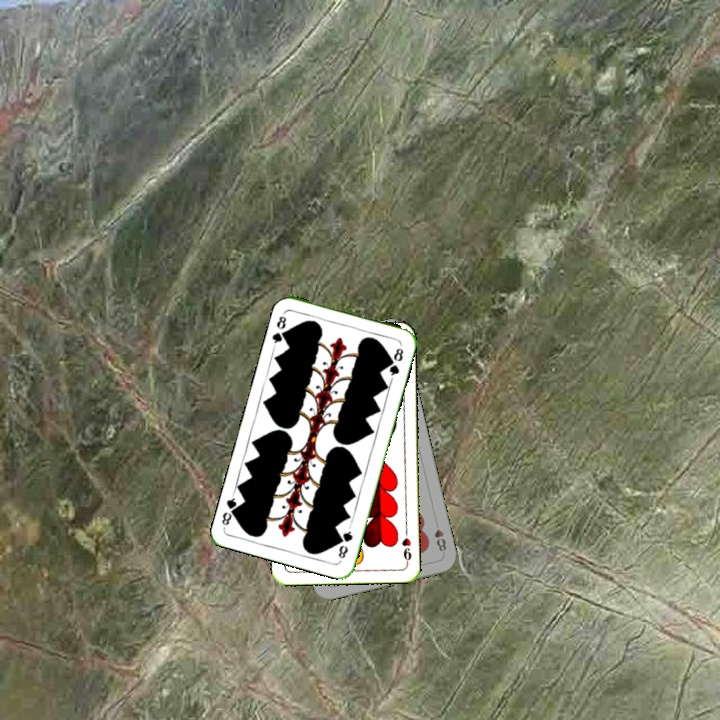G8: (268, 312, 291, 349), (334, 523, 355, 561)
H8: (430, 517, 449, 554)
H9: (398, 526, 414, 566)
